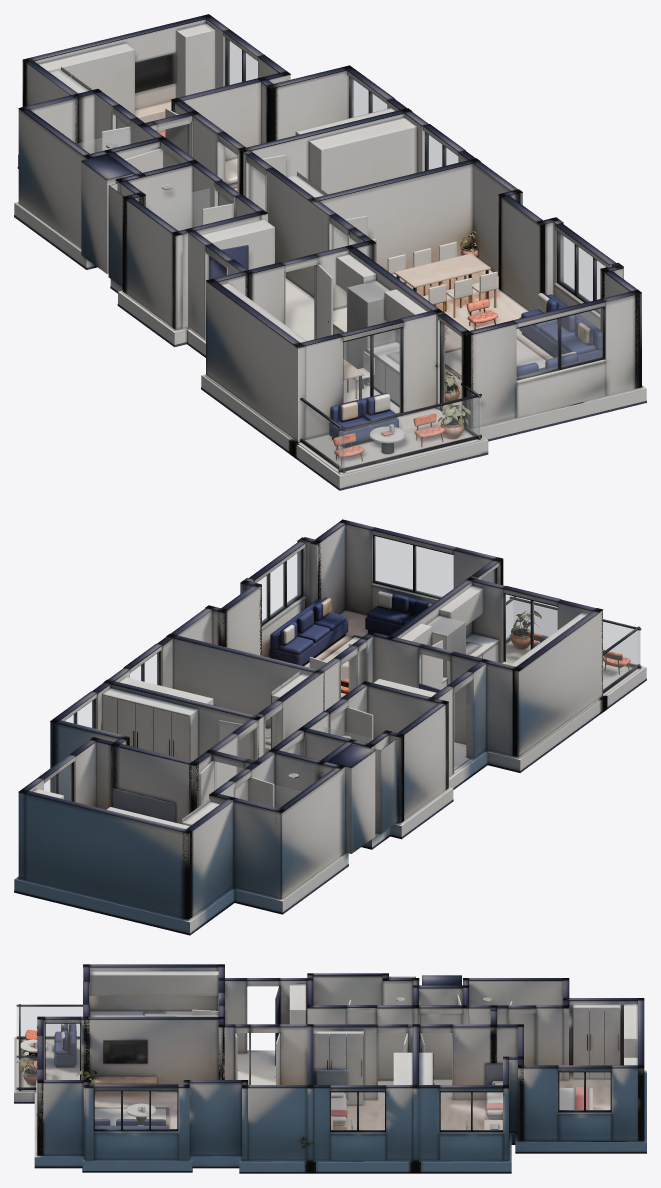
3 renders of one model, top to bottom at view 1: azimuth 30°, elevation 25°; view 2: azimuth 150°, elevation 25°; view 3: azimuth 270°, elevation 25°, orthographic. The views are drawn at different scales.
Parts seen in each view (by area): view 1: plan, railg2_m, glass4_m, glass6_m, glass3_m, railg3_m, sg.002_m, glass5_m, glass0_m, glass1_m; view 2: plan, glass4_m, glass6_m, railg2_m, glass3_m, railg3_m; view 3: plan, glass3_m, glass1_m, glass2_m, glass0_m, glass5_m, railg3_m, railg5_m.
Boxes of the visible parts, x1=… form: plan: x1=14, y1=14, x2=646, y2=490; railg2_m: x1=339, y1=397, x2=481, y2=469; glass4_m: x1=517, y1=308, x2=602, y2=377; glass6_m: x1=343, y1=328, x2=400, y2=413; glass3_m: x1=559, y1=233, x2=605, y2=310; railg3_m: x1=301, y1=401, x2=344, y2=469; sg.002_m: x1=146, y1=188, x2=209, y2=230; glass5_m: x1=442, y1=323, x2=461, y2=409; glass0_m: x1=227, y1=39, x2=257, y2=85; glass1_m: x1=350, y1=78, x2=386, y2=117; plan: x1=14, y1=519, x2=646, y2=935; glass4_m: x1=375, y1=536, x2=453, y2=596; glass6_m: x1=505, y1=594, x2=557, y2=663; railg2_m: x1=514, y1=600, x2=640, y2=665; glass3_m: x1=257, y1=550, x2=301, y2=622; railg3_m: x1=603, y1=630, x2=638, y2=689; plan: x1=14, y1=964, x2=646, y2=1173; glass3_m: x1=95, y1=1091, x2=176, y2=1129; glass1_m: x1=441, y1=1092, x2=502, y2=1130; glass2_m: x1=331, y1=1092, x2=384, y2=1130; glass0_m: x1=559, y1=1072, x2=610, y2=1110; glass5_m: x1=46, y1=1024, x2=79, y2=1079; railg3_m: x1=17, y1=1007, x2=82, y2=1036; railg5_m: x1=17, y1=1058, x2=36, y2=1087.
Bounding box in the file's own units: 8.39 × 2.62 × 17.81.
2 materials, 1 textured.
